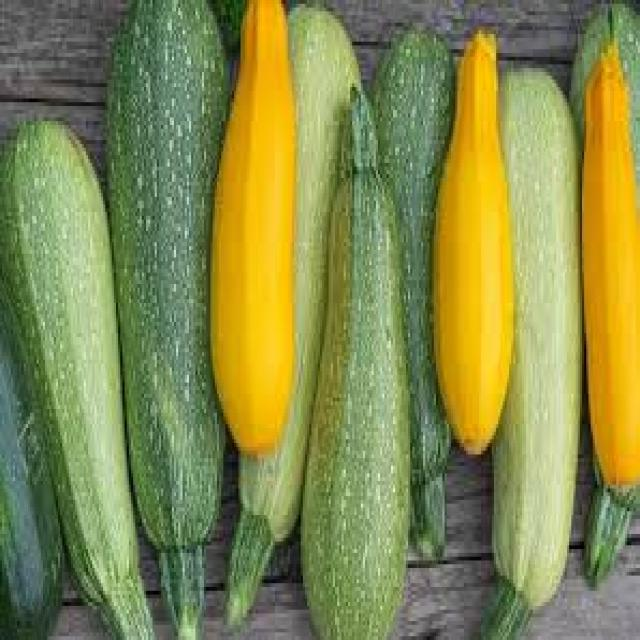Zucchini: (307, 109, 407, 640)
